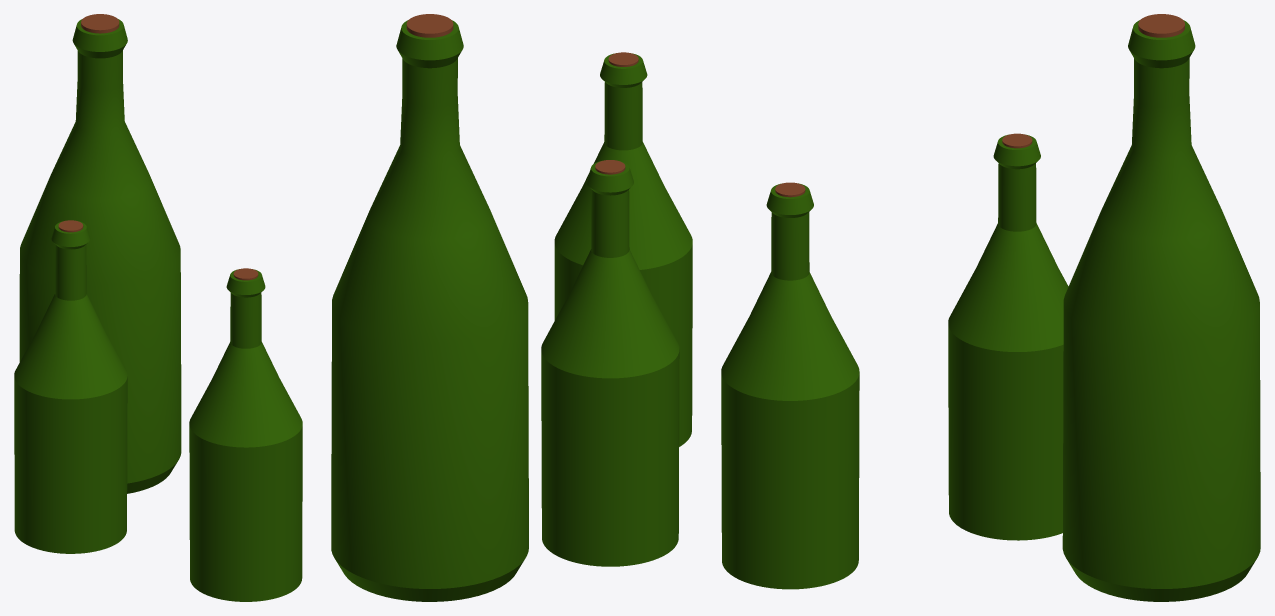
The model's file is bottle-Many-1.fbx.
3 views of the same model, side by side, from view 1: azimuth 30°, elevation 25°; view 2: azimuth 150°, elevation 25°; view 3: azimuth 270°, elevation 25° (orthographic). The views are drawn at different scales.
Visible parts, largest first — view 1: B.2; view 2: B.2; view 3: B.2.
Boxes of the visible parts, box(x1,y1,x2,y2) form: B.2: box(14, 14, 302, 601); B.2: box(331, 14, 692, 601); B.2: box(721, 14, 1260, 601).
Size of the model in its own units: 12.55 by 25.55 by 23.11.
